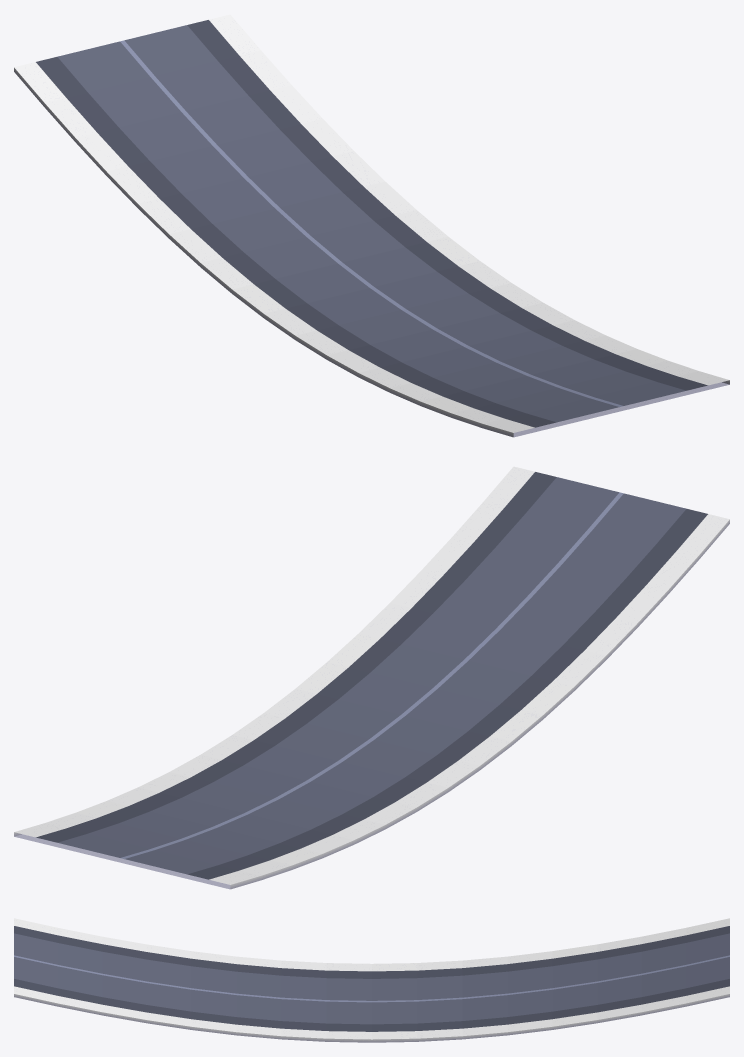
File: road-Straight-BiSlopeDown-BiSlopeUp-Even-Center-Size4.glb
The picture shows the model from 3 angles, top to bottom: view 1: azimuth 30°, elevation 25°; view 2: azimuth 150°, elevation 25°; view 3: azimuth 270°, elevation 25°; orthographic projection. The views are drawn at different scales.
Parts seen in each view (by area): view 1: road-Straight-BiSlopeDown-BiSlopeUp-Even-Center-Size4; view 2: road-Straight-BiSlopeDown-BiSlopeUp-Even-Center-Size4; view 3: road-Straight-BiSlopeDown-BiSlopeUp-Even-Center-Size4.
Part boxes in pixels (bbox=[...]): road-Straight-BiSlopeDown-BiSlopeUp-Even-Center-Size4: bbox=[14, 14, 729, 437]; road-Straight-BiSlopeDown-BiSlopeUp-Even-Center-Size4: bbox=[14, 466, 729, 889]; road-Straight-BiSlopeDown-BiSlopeUp-Even-Center-Size4: bbox=[14, 918, 729, 1042].
Bounding box in the file's own units: 1 × 0.3013 × 4.
1 material, 1 textured.
